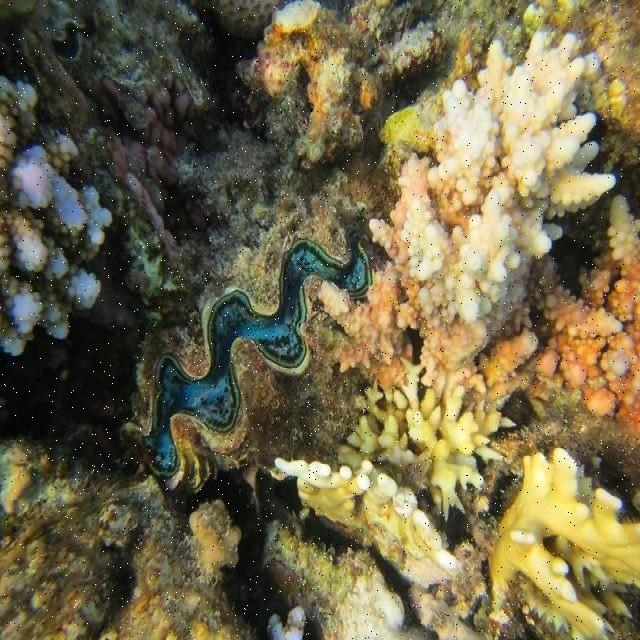reefs: (319, 30, 616, 392), (120, 169, 399, 493), (337, 356, 516, 522), (488, 447, 639, 639), (526, 194, 638, 436), (1, 127, 112, 357)
